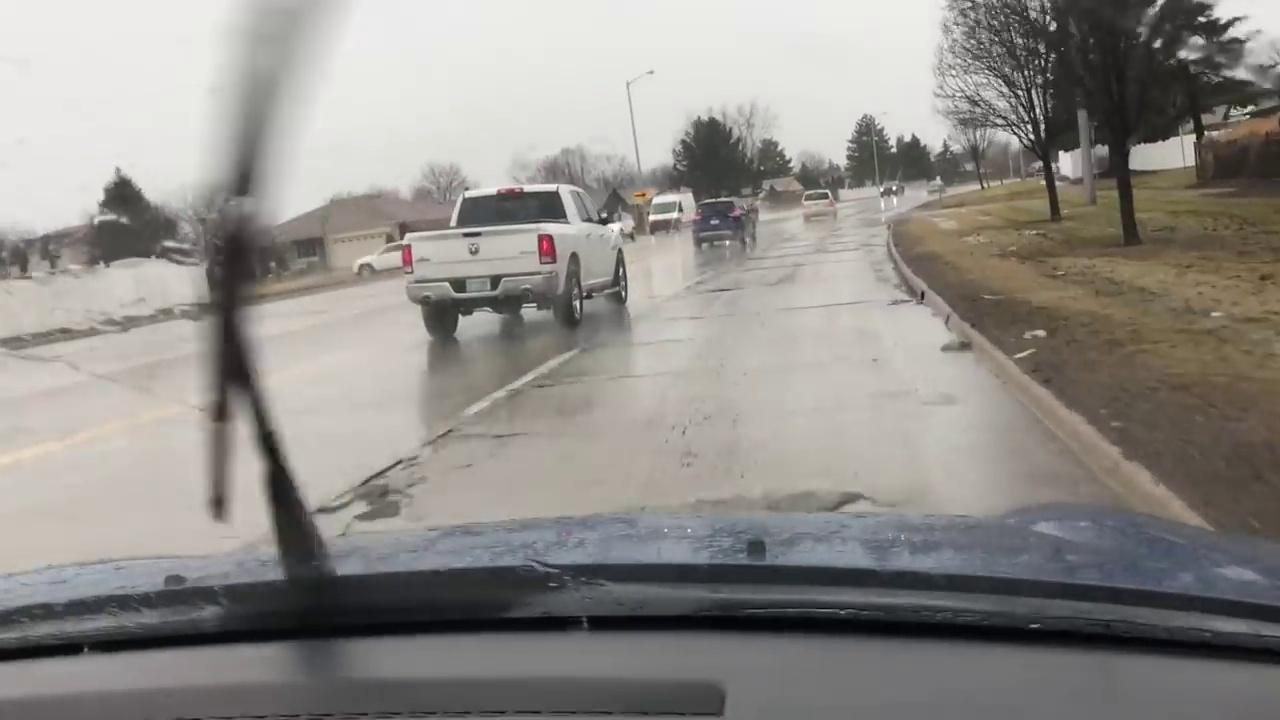pothole: (316, 424, 458, 522)
